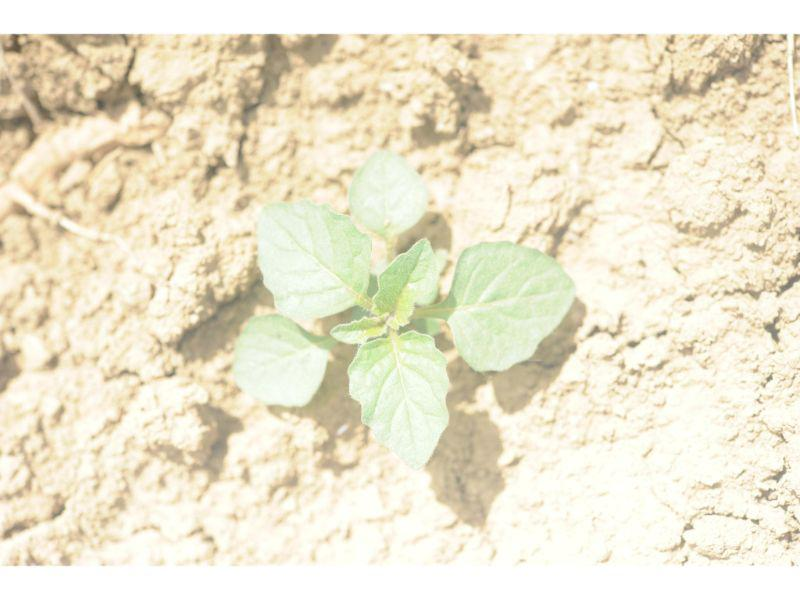nightshade: (232, 150, 576, 470)
